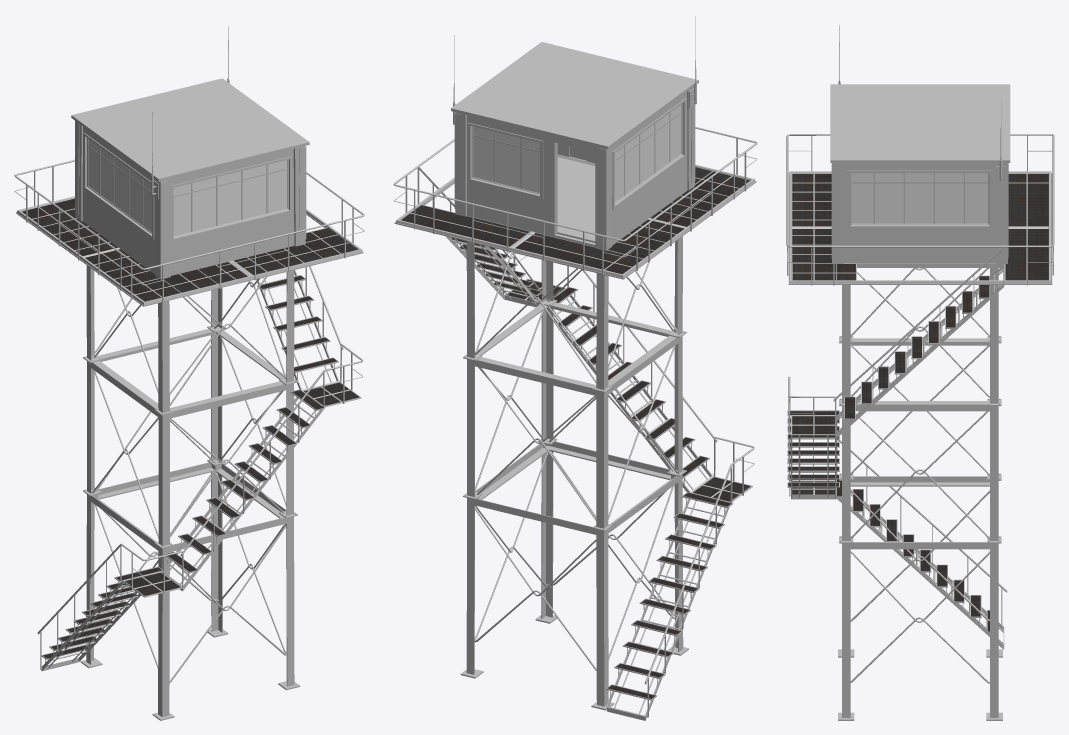
Rendered from SM_Observation_Tower.fbx.
3 renders of one model, left to right at view 1: azimuth 30°, elevation 25°; view 2: azimuth 150°, elevation 25°; view 3: azimuth 270°, elevation 25°, orthographic. The views are drawn at different scales.
Parts seen in each view (by area): view 1: SM_Observation_Tower; view 2: SM_Observation_Tower; view 3: SM_Observation_Tower.
Boxes of the visible parts, box(x1,y1,x2,y2) form: SM_Observation_Tower: box(14, 26, 364, 720); SM_Observation_Tower: box(393, 16, 757, 720); SM_Observation_Tower: box(786, 25, 1054, 720).
Bounding box in the file's own units: 683 × 1785 × 685.
